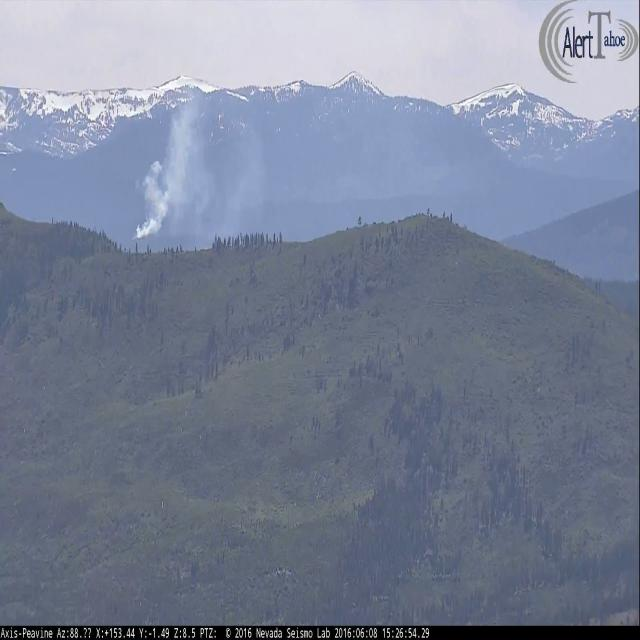smoke: (131, 96, 196, 243)
